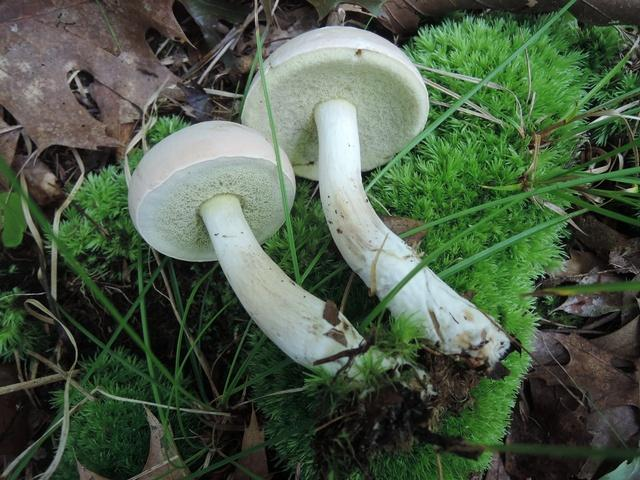edible_mushroom: (238, 24, 512, 371), (126, 118, 405, 390)
